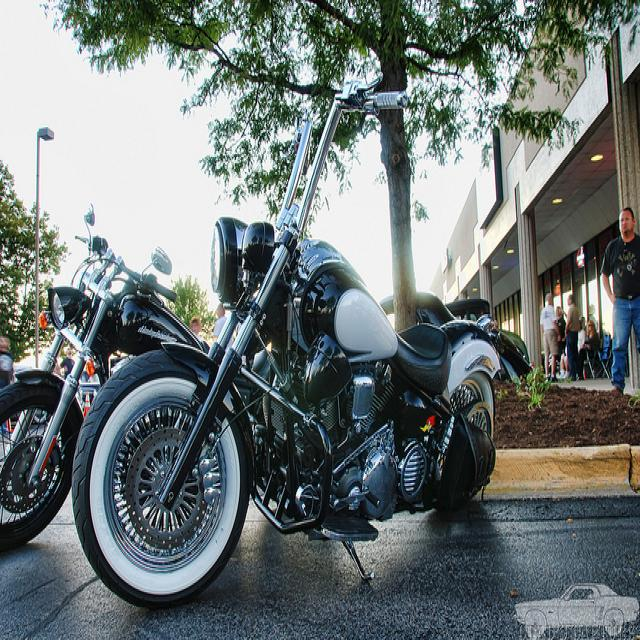motor: (75, 75, 507, 614), (1, 210, 202, 552)
